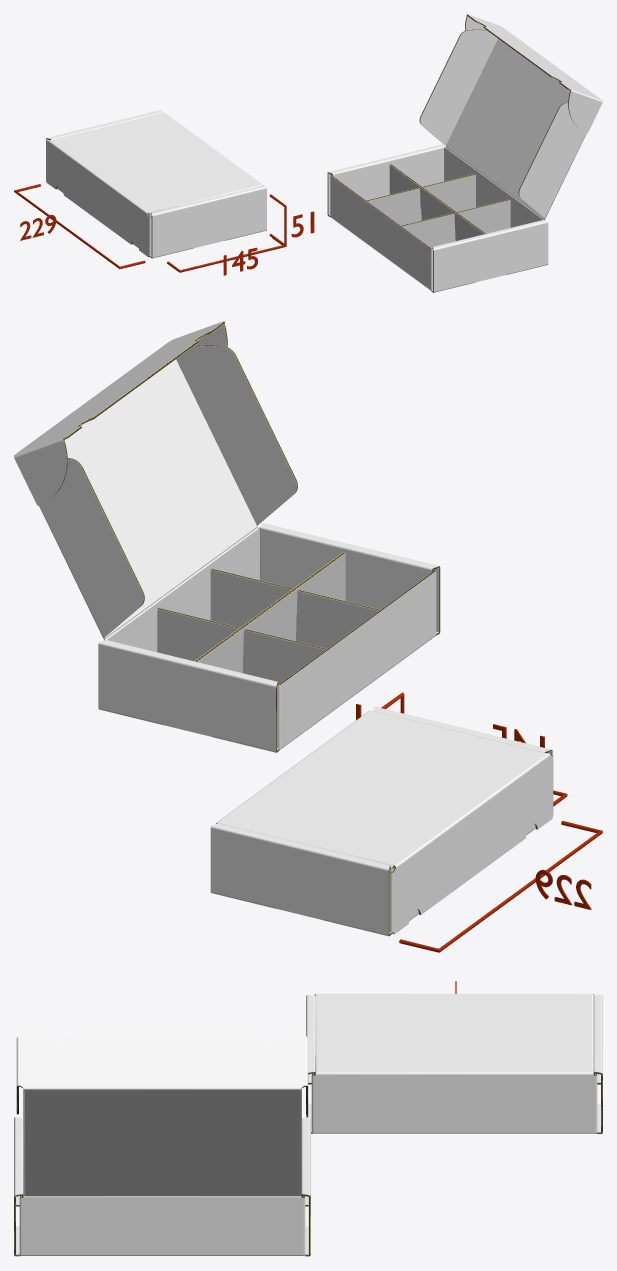
Rendered from 4D CAPS FOODS.gltf.
3 views of the same model, one above another, from view 1: azimuth 30°, elevation 25°; view 2: azimuth 150°, elevation 25°; view 3: azimuth 270°, elevation 25° (orthographic). The views are drawn at different scales.
Visible parts, largest first — view 1: TQ_ARD-node.001, TQ_ARD-node, Curve.001, Curve.002, Curve, Plano.002, Plano.001; view 2: TQ_ARD-node.001, TQ_ARD-node, Curve.002, Curve.001, Curve, Plano.002, Texto.001; view 3: TQ_ARD-node.001, TQ_ARD-node.
Part boxes in pixels (box(x1,y1,x2,y2)): TQ_ARD-node.001: box(327, 14, 602, 292); TQ_ARD-node: box(46, 110, 266, 258); Curve.001: box(366, 174, 475, 225); Curve.002: box(401, 199, 510, 248); Curve: box(389, 164, 486, 240); Plano.002: box(14, 184, 145, 268); Plano.001: box(167, 236, 285, 272); TQ_ARD-node.001: box(14, 321, 440, 752); TQ_ARD-node: box(210, 706, 553, 936); Curve.002: box(210, 568, 380, 648); Curve.001: box(157, 608, 326, 683); Curve: box(194, 552, 345, 672); Plano.002: box(399, 821, 602, 952); Texto.001: box(535, 869, 591, 909); TQ_ARD-node.001: box(14, 1034, 310, 1256); TQ_ARD-node: box(306, 994, 602, 1134).
Size of the model in its own units: 0.5371 by 0.2057 by 0.4575.
Materials: 10 (4 with a texture image).
